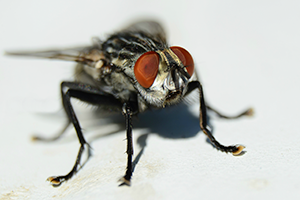fly: (3, 14, 258, 191)
